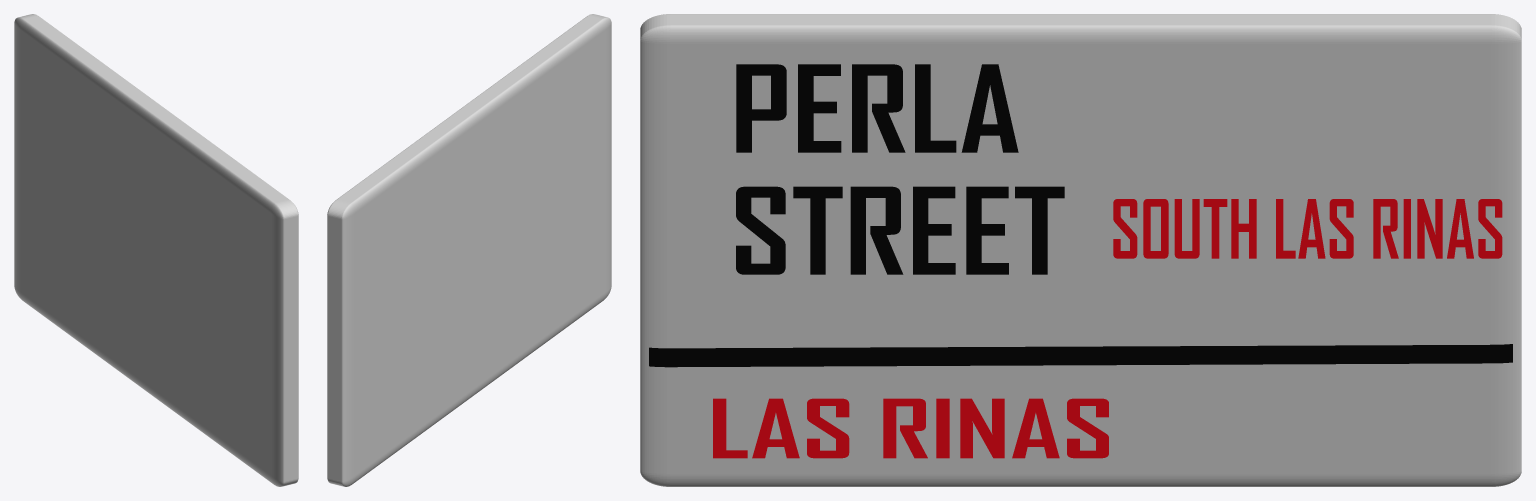
The model's file is las_rinas_sign_3.fbx.
3 views of the same model, side by side, from view 1: azimuth 30°, elevation 25°; view 2: azimuth 150°, elevation 25°; view 3: azimuth 270°, elevation 25° (orthographic). The views are drawn at different scales.
Parts seen in each view (by area): view 1: Cube; view 2: Cube; view 3: Cube, Text.001, Text, Text.002, Text.003.
Part boxes in pixels (bbox=[...]): Cube: bbox=[14, 14, 298, 486]; Cube: bbox=[327, 14, 611, 486]; Cube: bbox=[640, 14, 1521, 486]; Text.001: bbox=[736, 186, 1064, 274]; Text: bbox=[736, 64, 1018, 152]; Text.002: bbox=[713, 398, 1108, 458]; Text.003: bbox=[1113, 199, 1502, 258].
Bounding box in the file's own units: 1.63 × 20.07 × 34.74.
